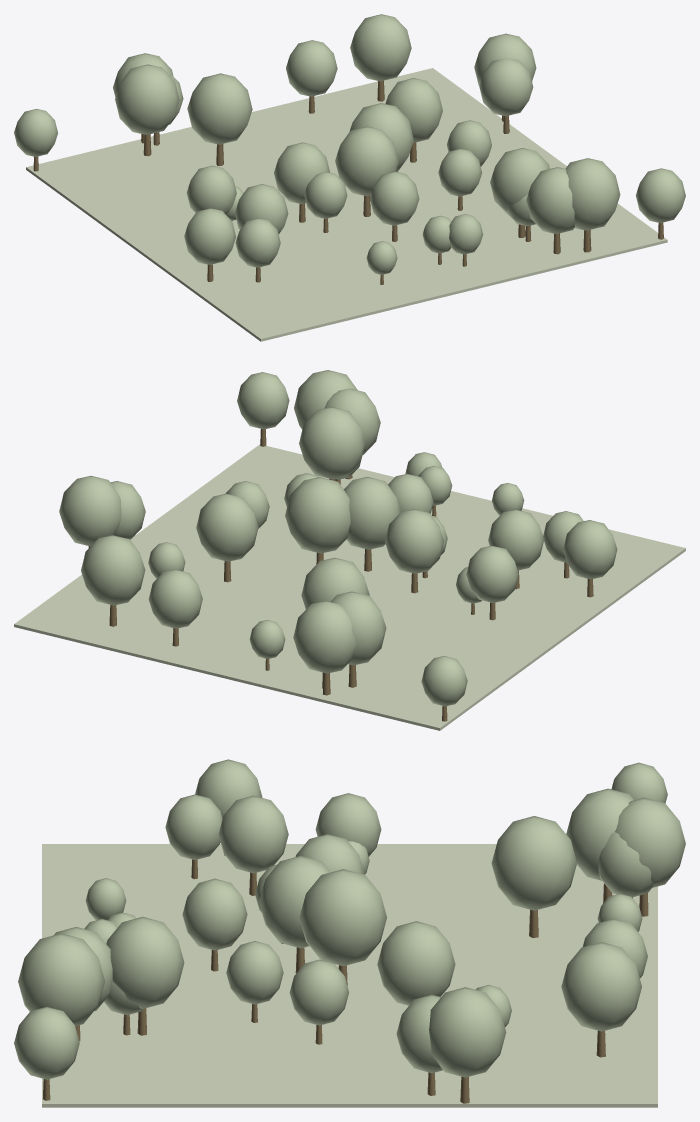
The picture shows the model from 3 angles, top to bottom: view 1: azimuth 30°, elevation 25°; view 2: azimuth 150°, elevation 25°; view 3: azimuth 270°, elevation 25°; orthographic projection. The views are drawn at different scales.
Visible parts, largest first — view 1: terrain, lod-near-2, lod-near-16, lod-near-29, lod-near-7, lod-near-9, lod-near-26, lod-near-15, lod-near-31, lod-near-23, lod-near-25, lod-near-18 (+16 smaller); view 2: terrain, lod-near-5, lod-near-31, lod-near-1, lod-near-29, lod-near-14, lod-near-23, lod-near-7, lod-near-6, lod-near-25, lod-near-18, lod-near-21 (+16 smaller); view 3: terrain, lod-near-5, lod-near-2, lod-near-9, lod-near-29, lod-near-14, lod-near-31, lod-near-23, lod-near-27, lod-near-1, lod-near-7, lod-near-8 (+17 smaller).
Part boxes in pixels (x1,y1,x2,y2): terrain: (26, 68, 667, 341); lod-near-2: (187, 73, 252, 144); lod-near-16: (115, 64, 179, 134); lod-near-29: (350, 14, 411, 81); lod-near-7: (335, 126, 398, 195); lod-near-9: (565, 158, 620, 230); lod-near-26: (526, 167, 575, 233); lod-near-15: (479, 58, 533, 116); lod-near-31: (490, 148, 549, 214); lod-near-23: (385, 78, 442, 142); lod-near-25: (184, 208, 235, 264); lod-near-18: (286, 40, 337, 96); terrain: (14, 444, 685, 730); lod-near-5: (285, 477, 350, 553); lod-near-31: (299, 407, 365, 479); lod-near-1: (293, 601, 356, 673); lod-near-29: (81, 535, 145, 605); lod-near-14: (59, 475, 121, 546); lod-near-23: (196, 493, 258, 561); lod-near-7: (344, 477, 400, 549); lod-near-6: (385, 509, 443, 573); lod-near-25: (563, 520, 617, 579); lod-near-18: (148, 569, 202, 628); lod-near-21: (466, 545, 518, 602); terrain: (42, 844, 657, 1107); lod-near-5: (299, 869, 386, 966); lod-near-2: (491, 816, 576, 910); lod-near-9: (18, 933, 104, 1025); lod-near-29: (561, 942, 641, 1031); lod-near-14: (429, 987, 506, 1077); lod-near-31: (106, 916, 184, 1008); lod-near-23: (377, 921, 455, 1005); lod-near-27: (218, 795, 288, 873); lod-near-1: (615, 797, 685, 887); lod-near-7: (259, 855, 330, 948); lod-near-8: (14, 1007, 79, 1079).
Bounding box in the file's own units: 35.34 × 7.19 × 34.92.
